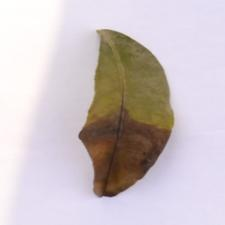Black: (73, 97, 187, 201)
